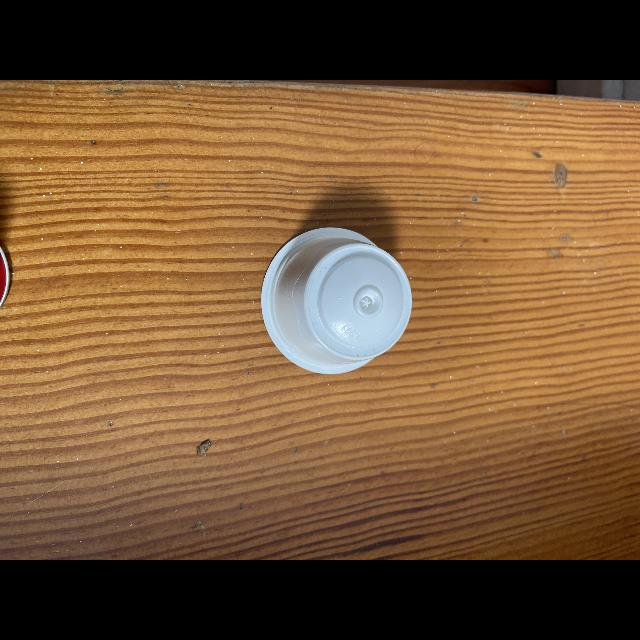intact_capsule: (256, 218, 418, 382)
